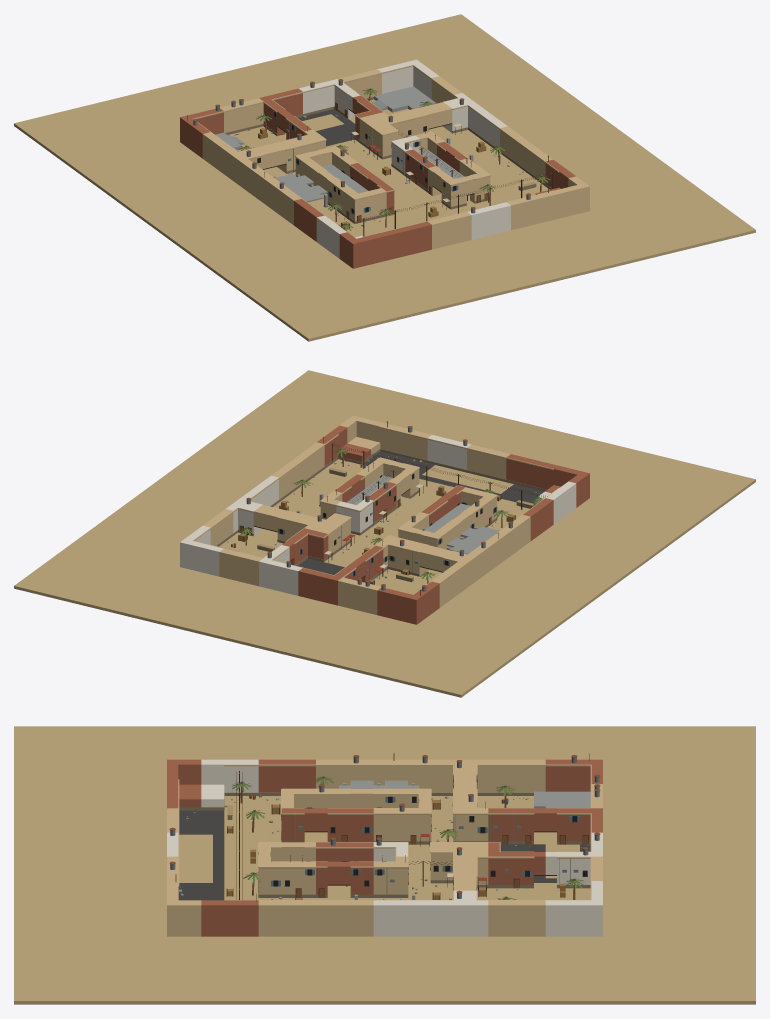
Rendered from sahara.glb.
3 views of the same model, one above another, from view 1: azimuth 30°, elevation 25°; view 2: azimuth 150°, elevation 25°; view 3: azimuth 270°, elevation 25° (orthographic). The views are drawn at different scales.
Parts seen in each view (by area): view 1: world_sand_ground, world_sand_wall, world_brick, world_plaster_white, world_concrete, decor_sand_wall, decor_stone_base, decor_wood_dark, decor_asphalt, decor_foliage, decor_metal; view 2: world_sand_ground, world_sand_wall, world_brick, world_plaster_white, decor_sand_wall, decor_asphalt, decor_stone_base, world_concrete, decor_wood_dark, decor_metal; view 3: world_sand_ground, world_sand_wall, world_brick, world_plaster_white, decor_sand_wall, decor_asphalt, decor_stone_base, decor_wood_dark, world_concrete, decor_metal, decor_wood, decor_foliage (+2 smaller).
Boxes of the visible parts, x1,y1,x2,y2 form: world_sand_ground: (14, 14, 755, 341); world_sand_wall: (202, 69, 589, 249); world_brick: (180, 88, 575, 268); world_plaster_white: (298, 59, 510, 258); world_concrete: (215, 86, 473, 205); decor_sand_wall: (192, 65, 559, 232); decor_stone_base: (197, 67, 552, 226); decor_wood_dark: (187, 102, 553, 228); decor_asphalt: (298, 109, 355, 146); decor_foliage: (239, 88, 550, 231); decor_metal: (186, 81, 551, 218); world_sand_ground: (14, 370, 755, 697); world_sand_wall: (203, 415, 530, 614); world_brick: (282, 425, 589, 624); world_plaster_white: (180, 435, 576, 595); decor_sand_wall: (193, 426, 558, 594); decor_asphalt: (297, 451, 544, 574); decor_stone_base: (216, 430, 553, 579); world_concrete: (215, 475, 499, 594); decor_wood_dark: (238, 421, 547, 595); decor_metal: (246, 421, 512, 591); world_sand_ground: (14, 726, 755, 1004); world_sand_wall: (167, 759, 602, 936); world_brick: (167, 759, 602, 936); world_plaster_white: (167, 759, 602, 936); decor_sand_wall: (178, 764, 591, 900); decor_asphalt: (179, 810, 590, 900); decor_stone_base: (178, 775, 590, 900); decor_wood_dark: (175, 753, 589, 901); world_concrete: (339, 780, 590, 899); decor_metal: (170, 757, 599, 898); decor_wood: (232, 772, 587, 899); decor_foliage: (232, 776, 584, 899).
Bounding box in the file's own units: 170 × 12.2 × 194.
